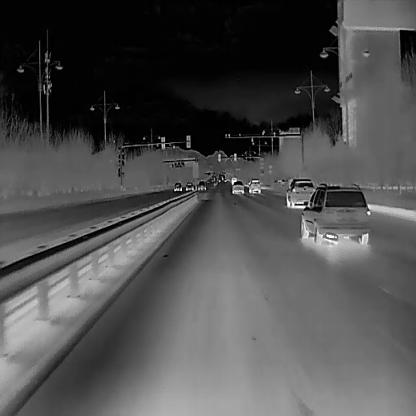bus: (229, 176, 236, 184)
car: (300, 180, 371, 248), (286, 177, 314, 206), (247, 177, 260, 193), (231, 179, 243, 194), (197, 179, 207, 191), (186, 180, 193, 191), (173, 183, 181, 190)
